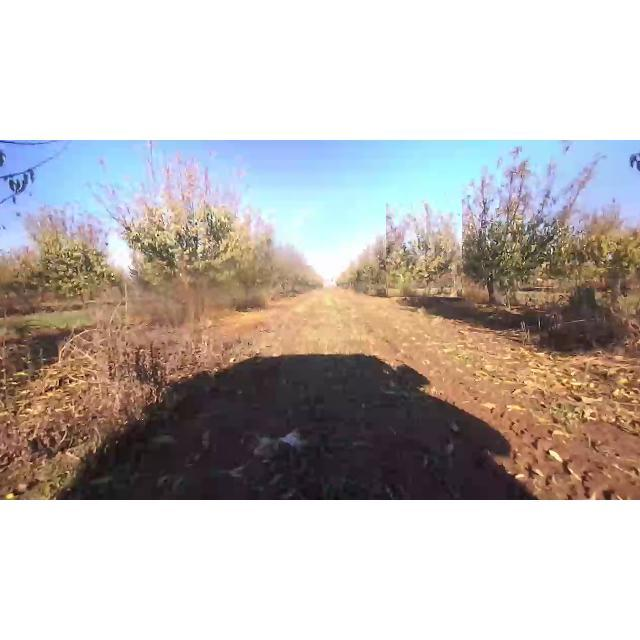direk: (444, 142, 632, 316), (90, 141, 246, 325), (386, 203, 462, 297), (27, 228, 114, 310)
